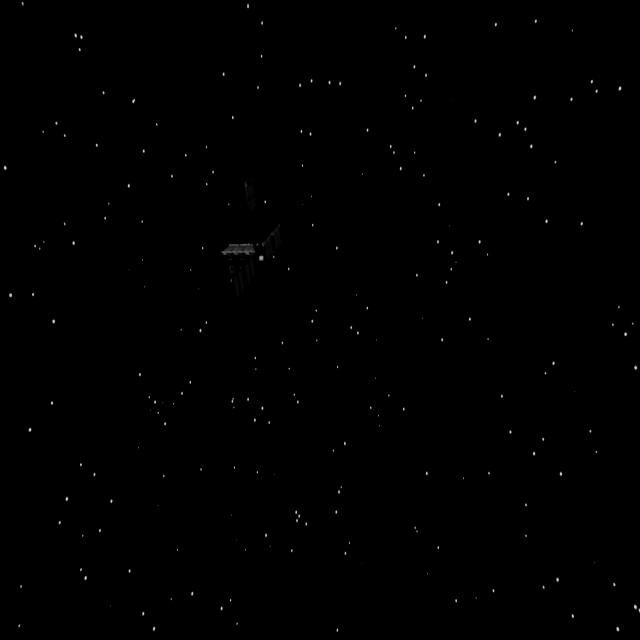satellite: (218, 176, 290, 304)
